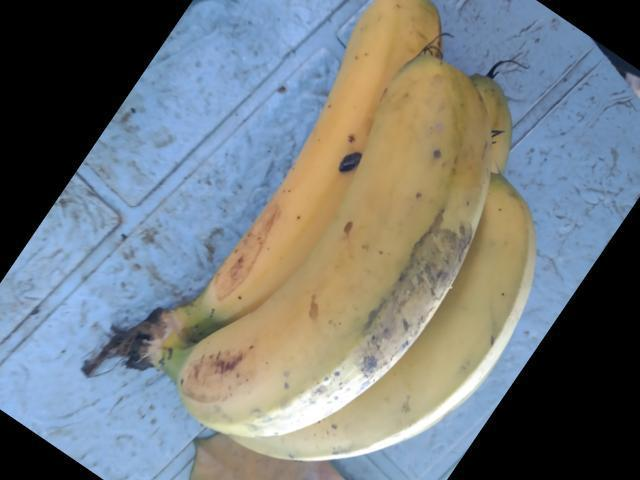ripe: (193, 58, 487, 472)
